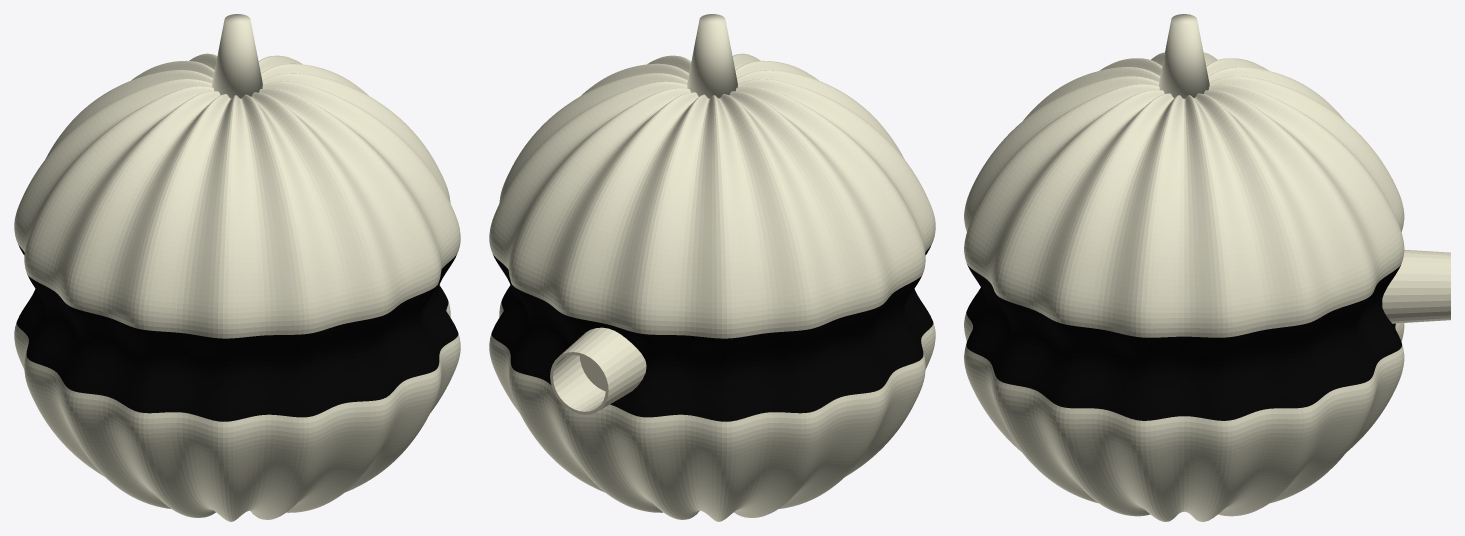
Rendered from Onion Shooter.fbx.
3 renders of one model, left to right at view 1: azimuth 30°, elevation 25°; view 2: azimuth 150°, elevation 25°; view 3: azimuth 270°, elevation 25°, orthographic.
Parts seen in each view (by area): view 1: Onion; view 2: Onion; view 3: Onion.
Boxes of the visible parts, box(x1,y1,x2,y2) form: Onion: box(14, 14, 460, 521); Onion: box(489, 14, 935, 521); Onion: box(964, 14, 1450, 521).
Size of the model in its own units: 205 by 243 by 226.
